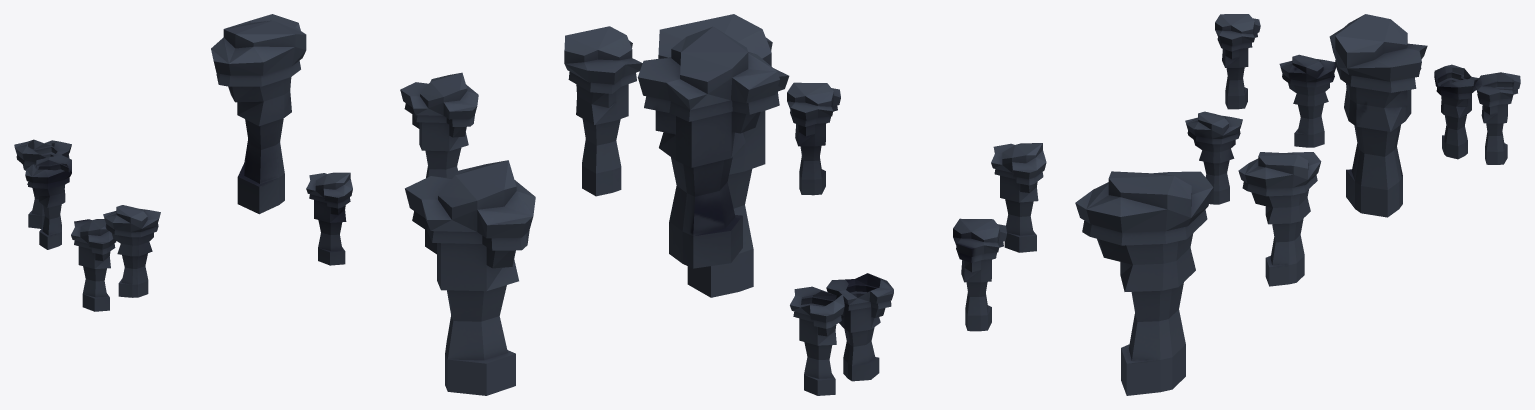
File: Stone_02.FBX
The picture shows the model from 3 angles, left to right: view 1: azimuth 30°, elevation 25°; view 2: azimuth 150°, elevation 25°; view 3: azimuth 270°, elevation 25°; orthographic projection. The views are drawn at different scales.
Visible parts, largest first — view 1: Stone_02; view 2: Stone_02; view 3: Stone_02.
Part boxes in pixels (x1,y1,x2,y2): Stone_02: (14, 14, 535, 395); Stone_02: (564, 14, 1046, 395); Stone_02: (1075, 14, 1520, 395).
Size of the model in its own units: 37.25 by 28.28 by 37.65.
